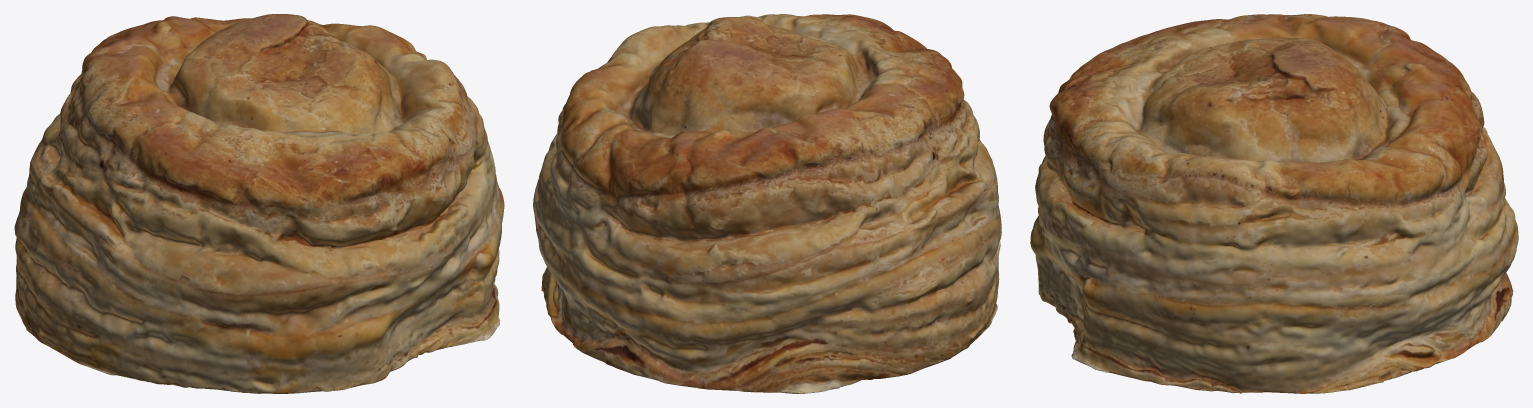
File: e014a31e-ef3e-4e76-bc5d-37d04bdaf751.glb
3 renders of one model, left to right at view 1: azimuth 30°, elevation 25°; view 2: azimuth 150°, elevation 25°; view 3: azimuth 270°, elevation 25°, orthographic. The views are drawn at different scales.
Parts seen in each view (by area): view 1: Retopo_3DModel; view 2: Retopo_3DModel; view 3: Retopo_3DModel.
Part boxes in pixels (<box>): Retopo_3DModel: <box>14,14,504,393</box>; Retopo_3DModel: <box>533,14,1001,393</box>; Retopo_3DModel: <box>1030,14,1518,393</box>.
Size of the model in its own units: 0.1587 by 0.0903 by 0.159.
1 material, 1 textured.
